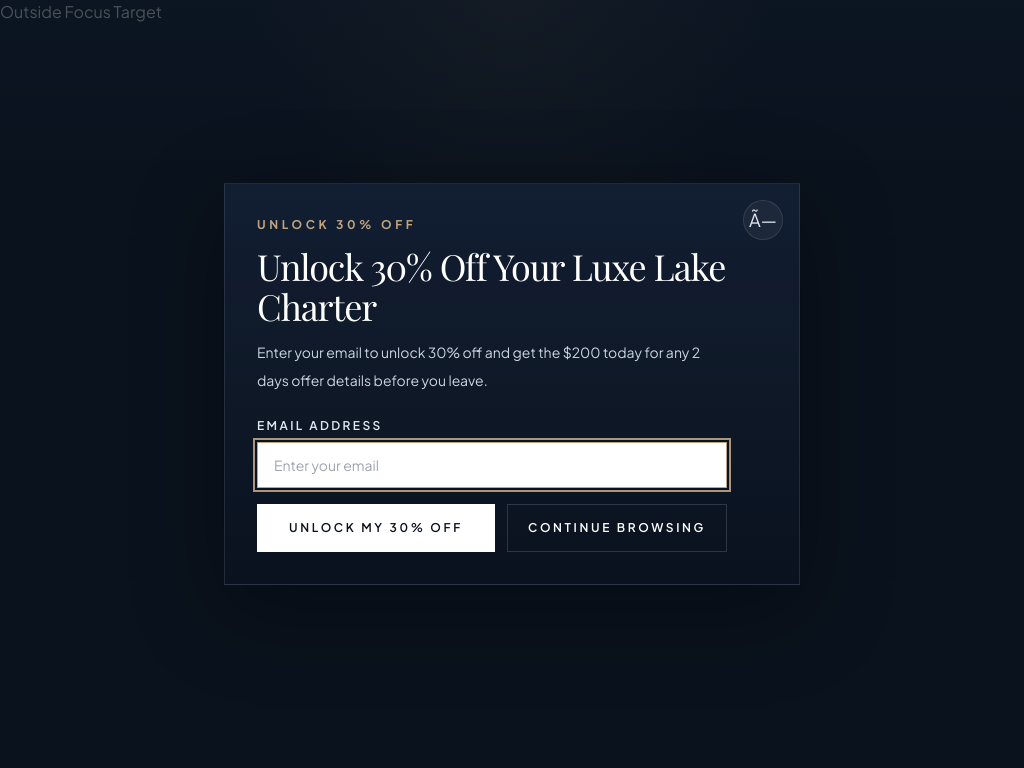
Test case: OfferPopup › opens after the configured delay and restores focus on dismiss
Expected: the dialog "Unlock 30% Off Your Luxe Lake Charter" is shown, [224, 183, 800, 585]
Click the button "Continue Browsing".
click(617, 528)  # box [507, 504, 727, 552]
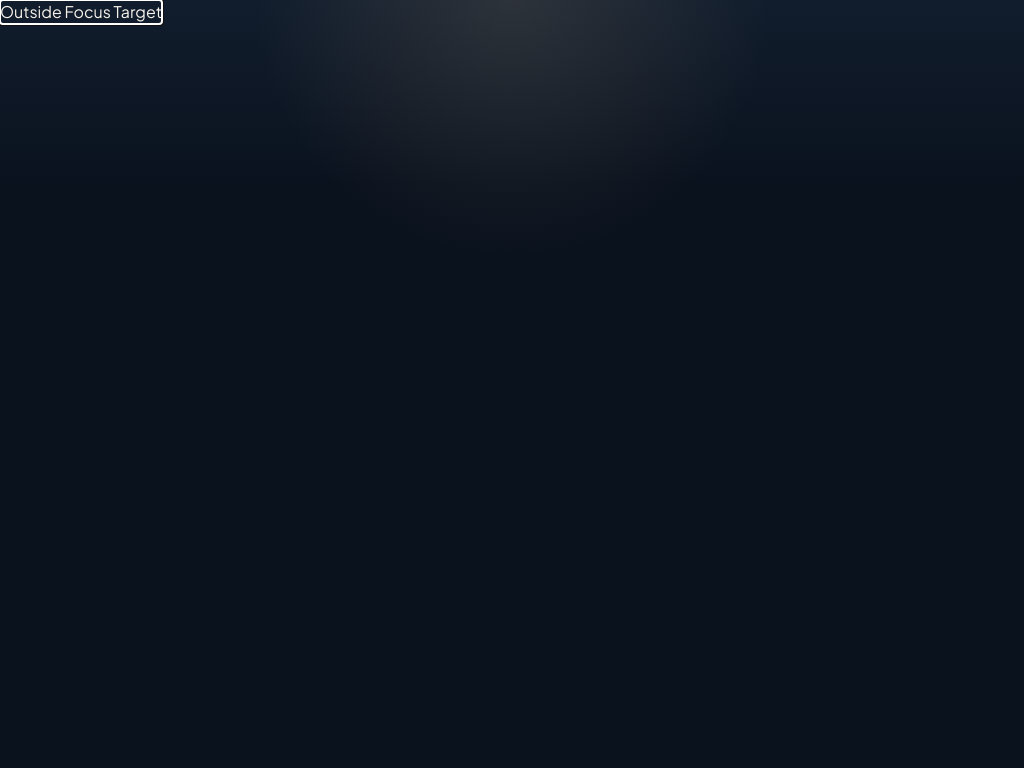
Now the dialog is gone
